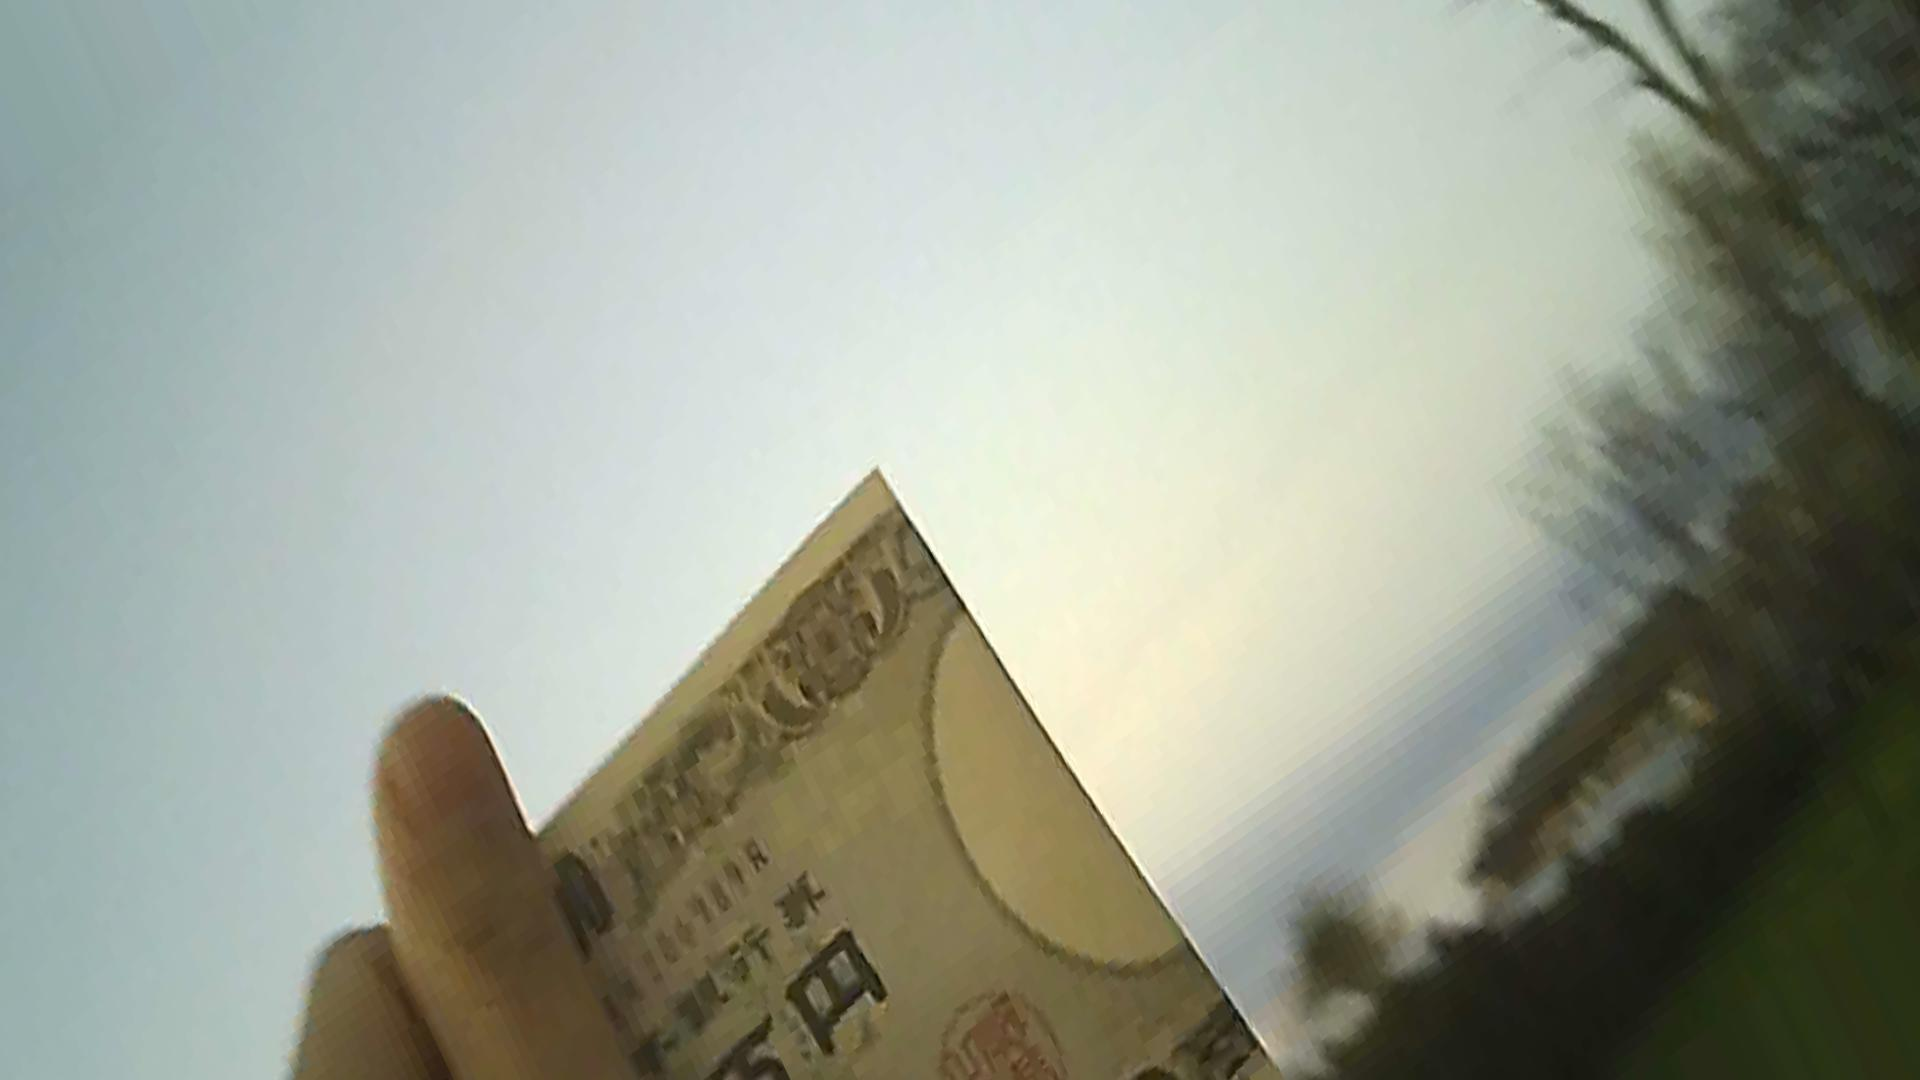10,000 Yen: (468, 460, 1279, 1073)
